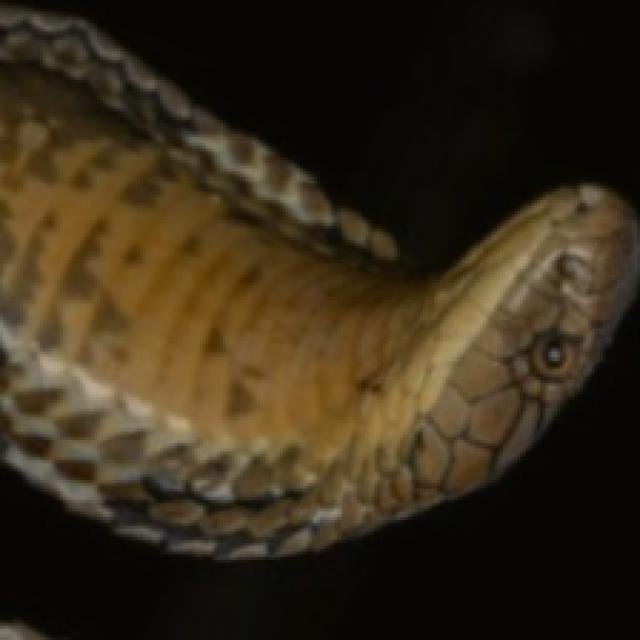king cobra: (0, 9, 634, 554)
